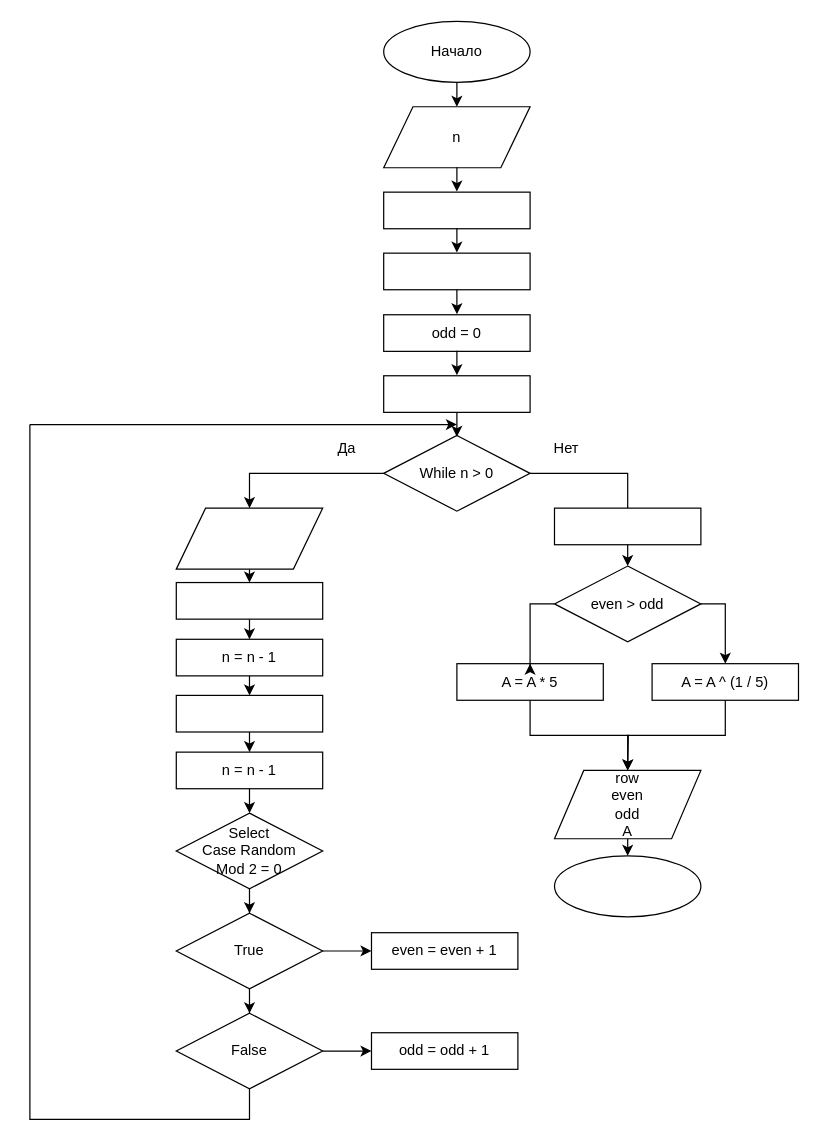
The diagram is 820 pixels wide and 1142 high, and some of its shapes have lost their labels. The shapes that lost their labels are listed below. From the top down, each one's centre as x and y in pixels, then its label:
(x=456, y=210): sum = 0
(x=456, y=271): even = 0
(x=456, y=393): n1 = n
(x=249, y=538): Random
(x=627, y=526): A = sum / n1
(x=249, y=600): sum = sum + Random
(x=249, y=713): row = row & Random & " "
(x=627, y=886): Конец
